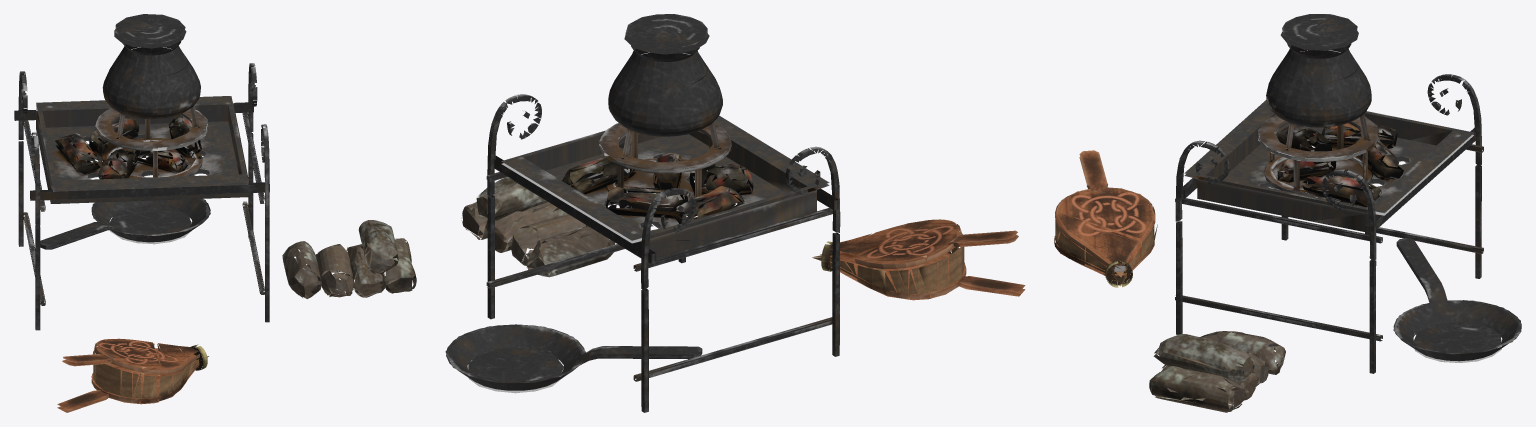
File: cooking_grate.glb
3 views of the same model, side by side, from view 1: azimuth 30°, elevation 25°; view 2: azimuth 150°, elevation 25°; view 3: azimuth 270°, elevation 25° (orthographic). The views are drawn at different scales.
Visible parts, largest first — view 1: defaultMaterial.007; view 2: defaultMaterial.007; view 3: defaultMaterial.007.
Boxes of the visible parts, x1=… form: defaultMaterial.007: x1=14, y1=14, x2=416, y2=412; defaultMaterial.007: x1=445, y1=14, x2=1025, y2=412; defaultMaterial.007: x1=1054, y1=14, x2=1521, y2=412.
Bounding box in the file's own units: 0.9703 × 0.5846 × 0.8814.
1 material, 1 textured.
